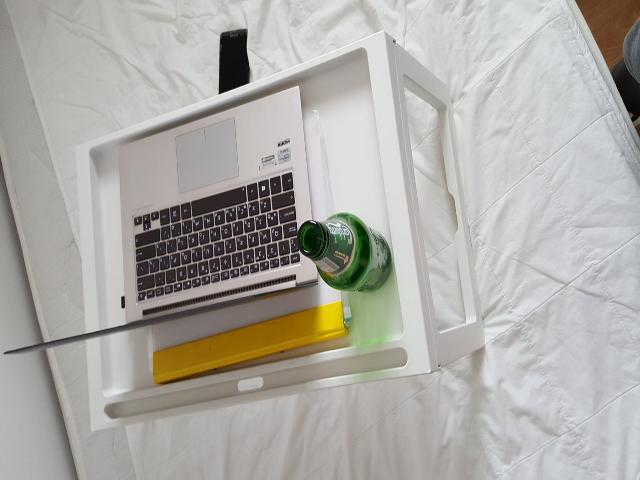beer: (298, 212, 392, 292)
